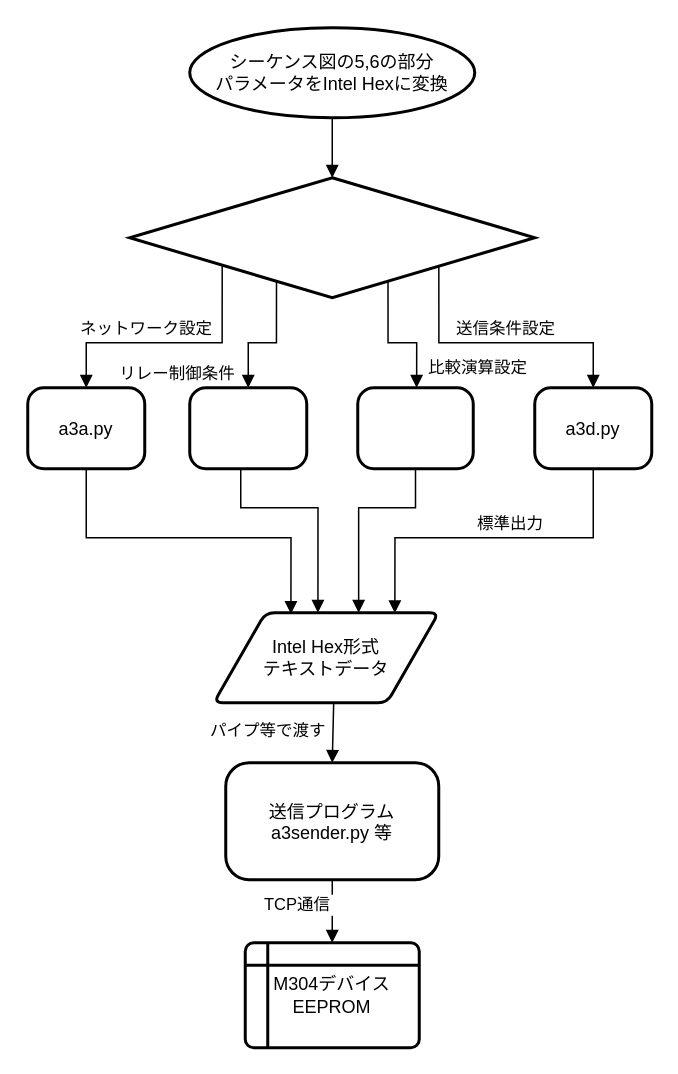
Image size: 678x1074. Some labels were removed from this diagram. Here are the shapes that lost their labels. From the top down, the box of each, then its label:
(128, 176, 536, 298): 設定対象に応じた 変換プログラムの呼び出し
(188, 386, 308, 470): a3b.py
(356, 386, 474, 470): a3c.py
